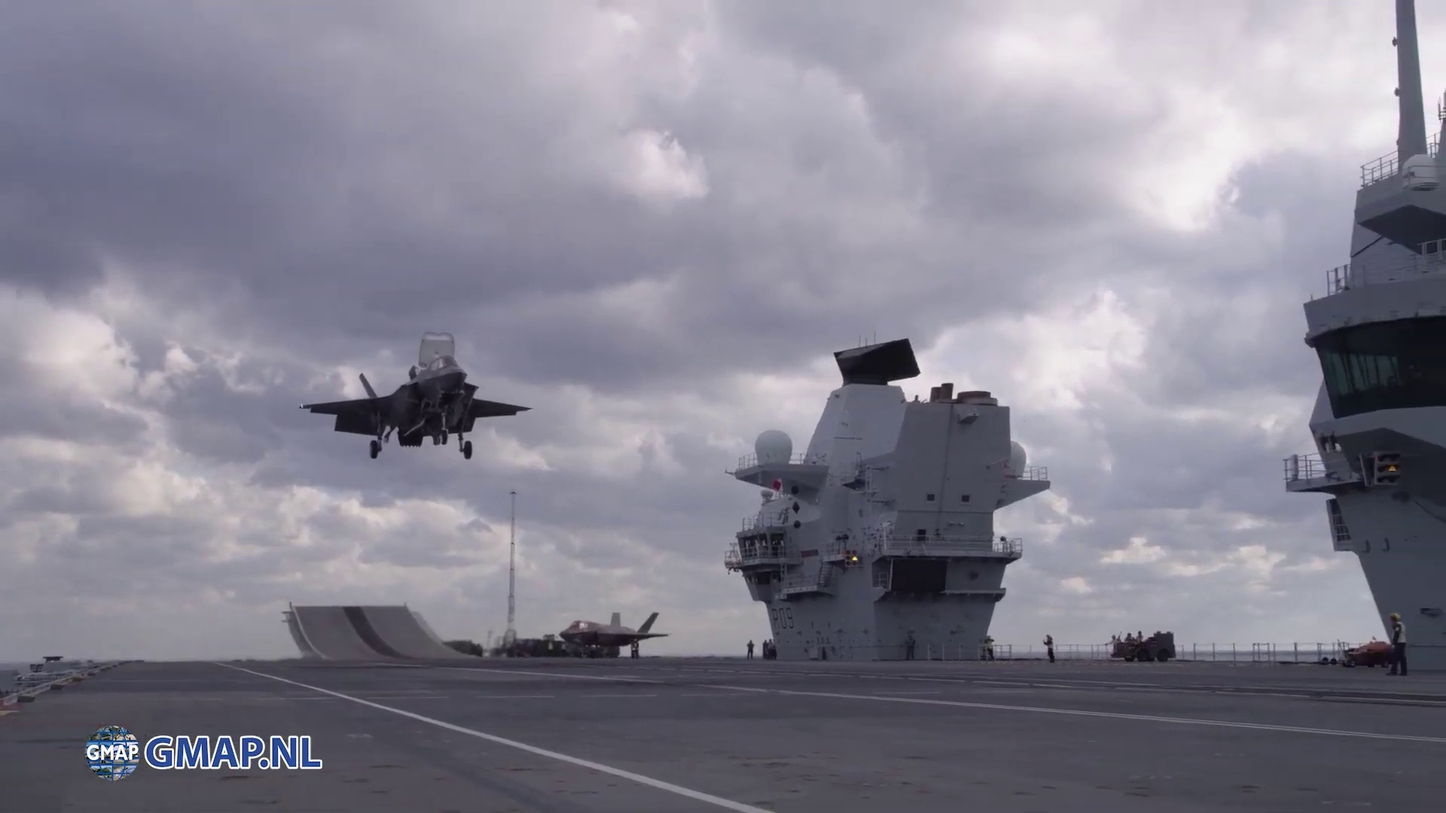F35: (297, 329, 537, 465), (559, 609, 672, 656)
